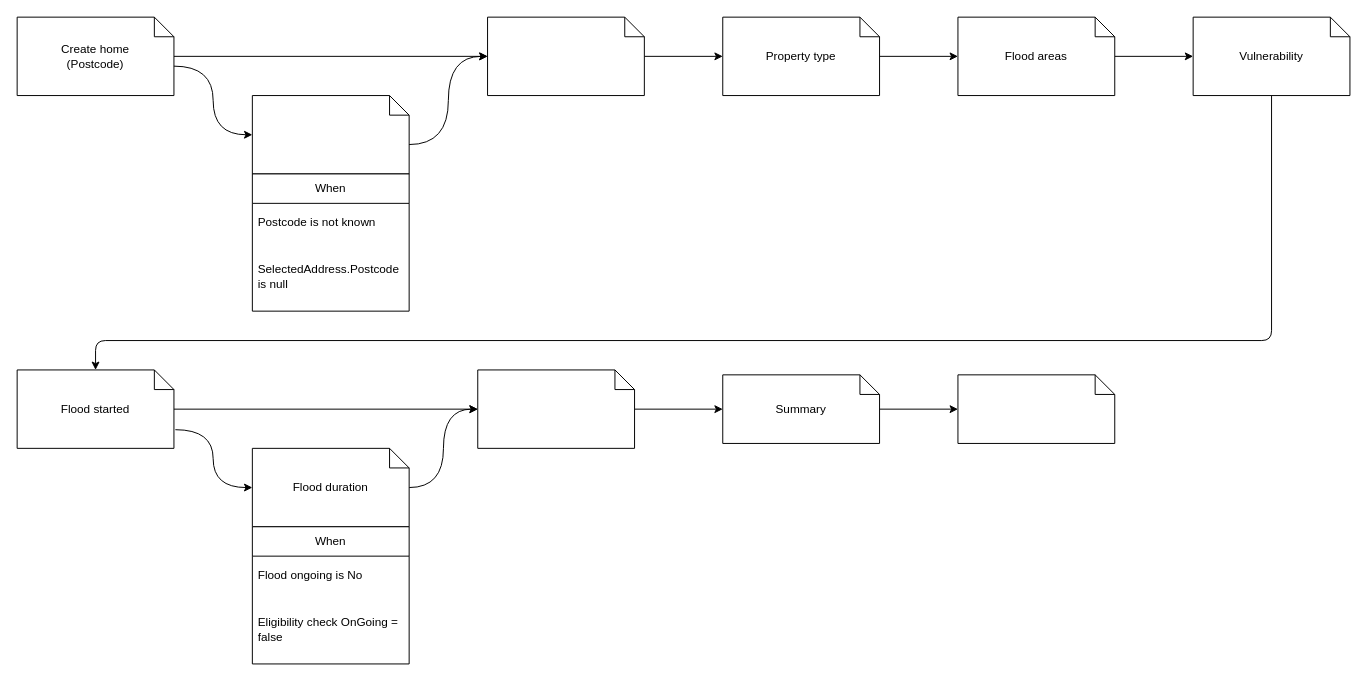
The diagram is 1367 pixels wide and 681 high, and some of its shapes have lost their labels. The box of each missing label's shape, as (x1, y1, x2, y2) in pixels:
Address: (487, 16, 644, 96)
Comfirmation: (957, 374, 1115, 443)
Flood source: (477, 369, 635, 448)
Location: (251, 95, 409, 174)
